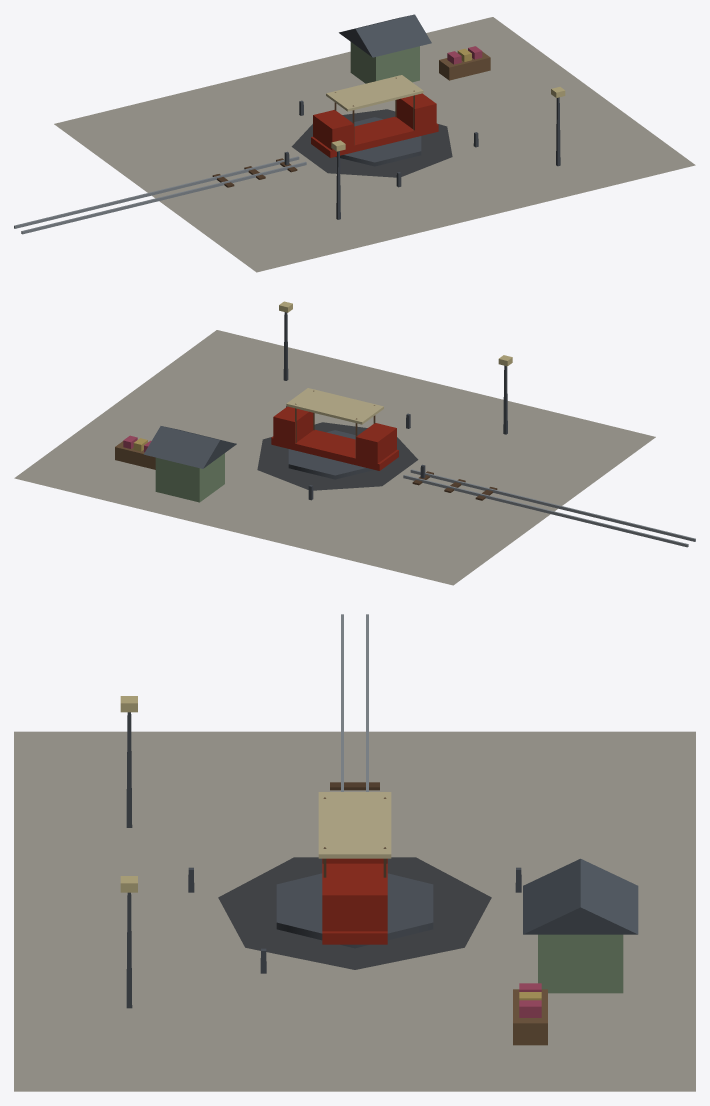
Rendered from mobile-low.glb.
3 views of the same model, one above another, from view 1: azimuth 30°, elevation 25°; view 2: azimuth 150°, elevation 25°; view 3: azimuth 270°, elevation 25° (orthographic). The views are drawn at different scales.
Visible parts, largest first — view 1: lm.powell-turntable; view 2: lm.powell-turntable; view 3: lm.powell-turntable.
Boxes of the visible parts, bbox=[...] form: lm.powell-turntable: bbox=[14, 14, 695, 272]; lm.powell-turntable: bbox=[14, 301, 695, 585]; lm.powell-turntable: bbox=[14, 614, 695, 1091].
Size of the model in its own units: 44.6 by 5.64 by 27.2.
